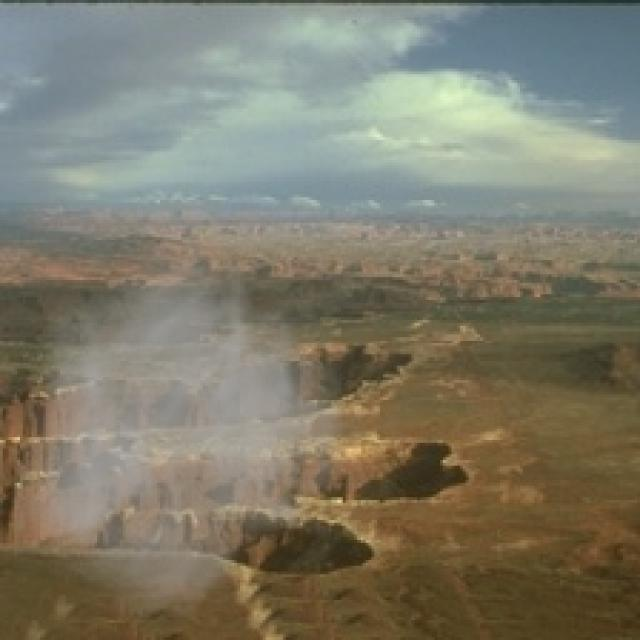Smoke: (14, 228, 383, 638)
